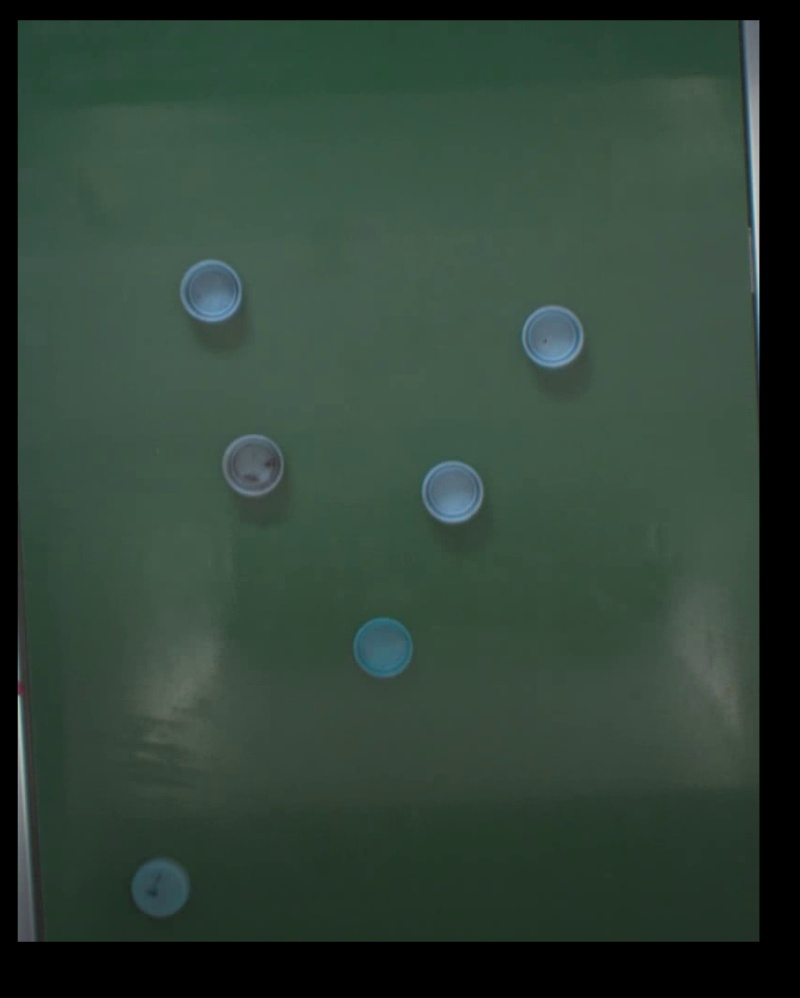Light Blue: (523, 307, 585, 371), (180, 259, 242, 323), (422, 462, 484, 525), (222, 435, 284, 497), (352, 618, 414, 679), (129, 859, 191, 917)
